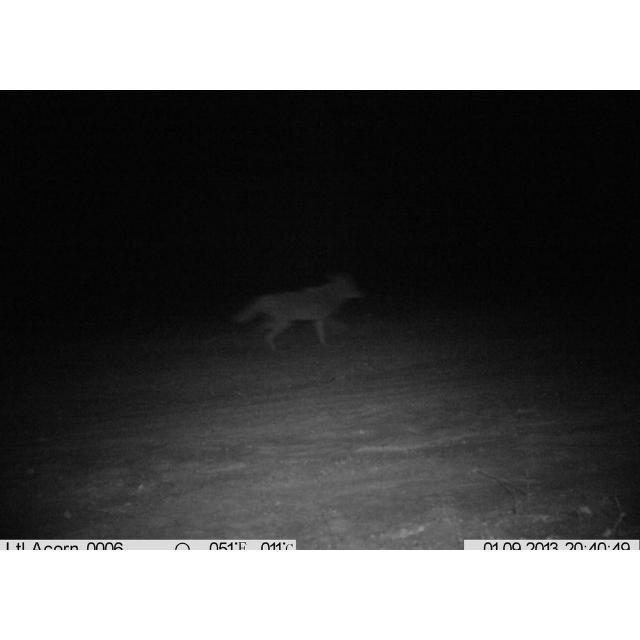animals: (234, 273, 364, 355)
